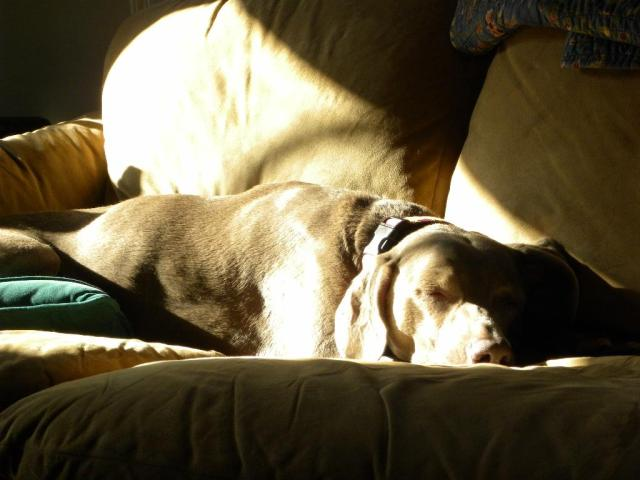Dog: (0, 178, 581, 366)
